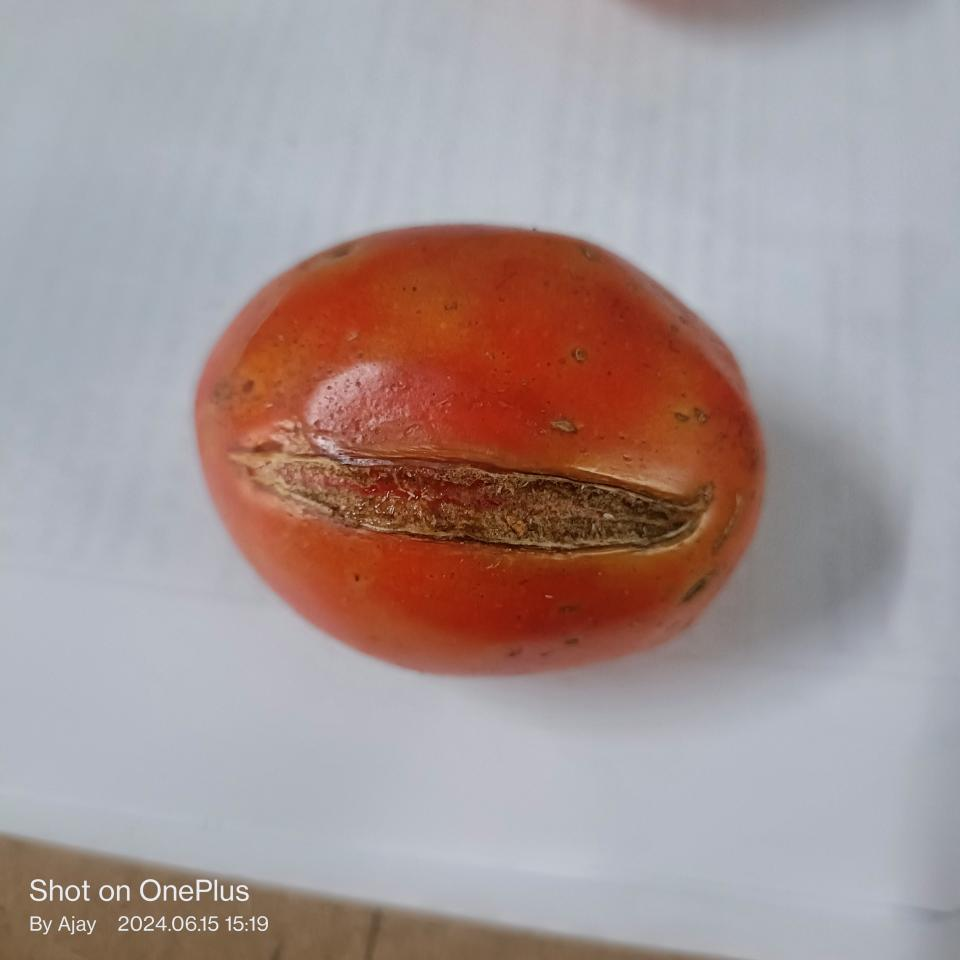Cracking: (225, 441, 709, 570)
